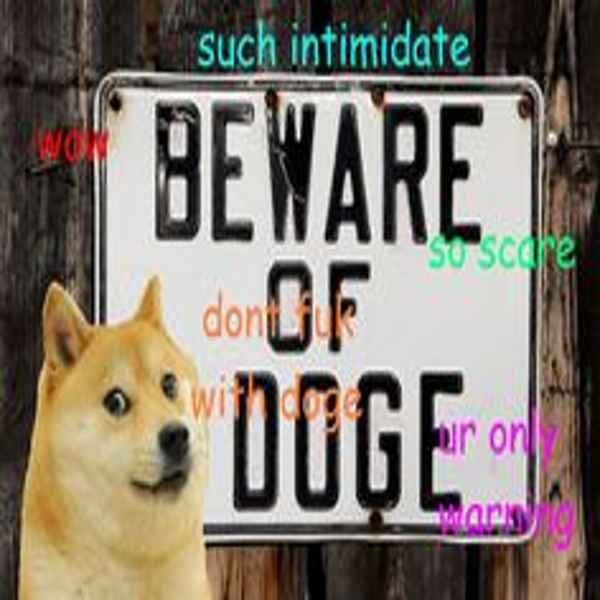doge: (23, 269, 219, 538)
